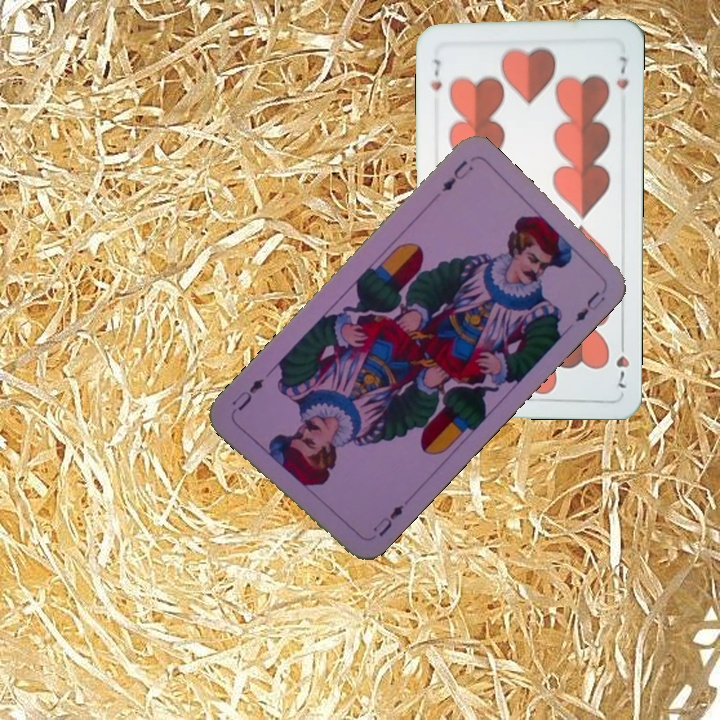EU: (368, 496, 411, 539), (437, 155, 476, 195)
H7: (612, 334, 632, 390), (426, 55, 444, 93)
